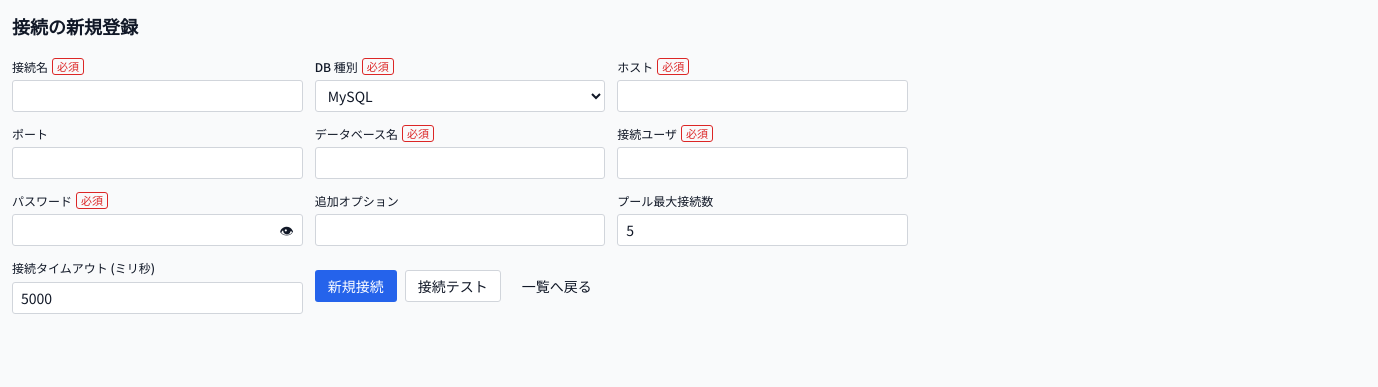
Test case: ConnectionEditPage › 認証失敗はAUTH_FAILEDの文言で表示する
This screenshot has width=1378, height=387.
Type "test-conn" into the field labelled "接続名 必須". click: (157, 96)
box: [12,80,303,112]
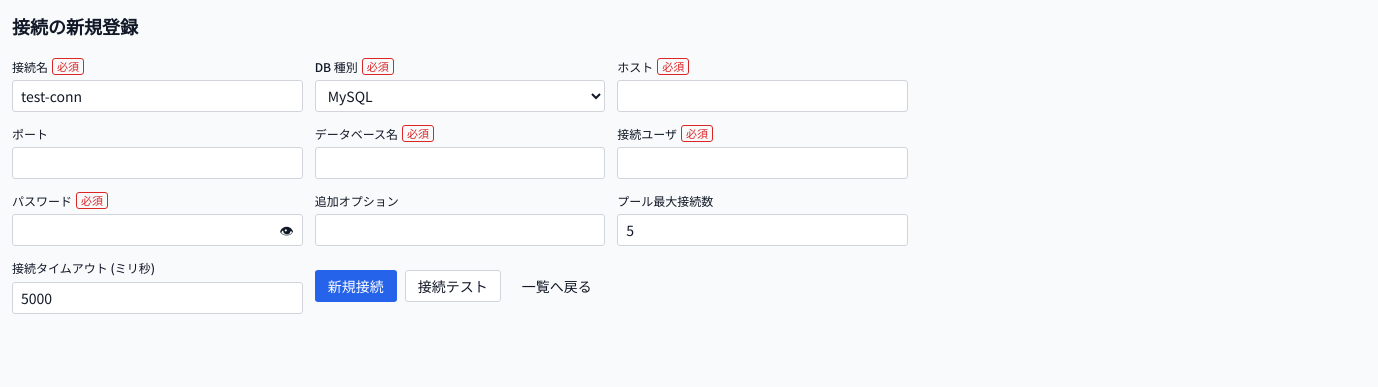
Type "localhost" into the field labelled "ホスト 必須". click: (763, 96)
box: [617,80,908,112]
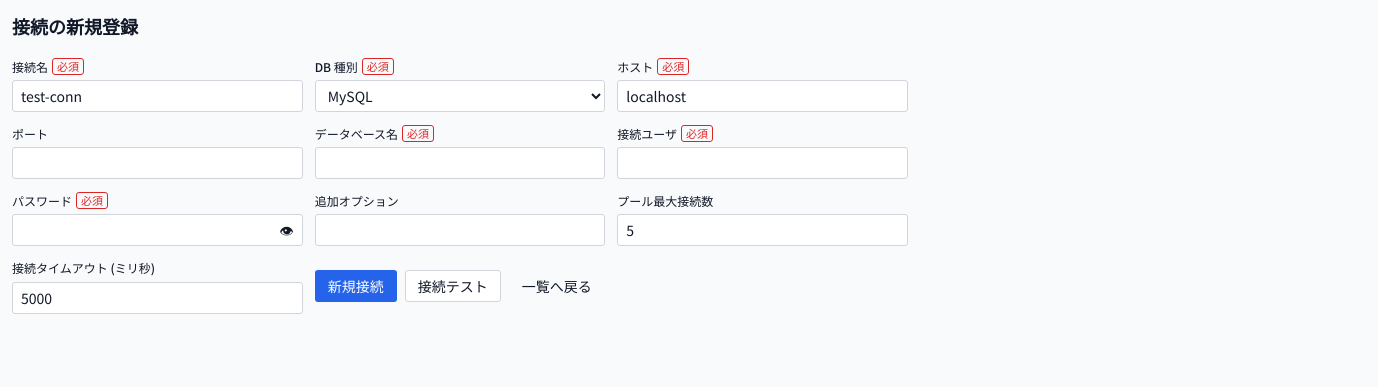
Type "testdb" into the field labelled "データベース名 必須". click: (460, 163)
box: [315,147,605,179]
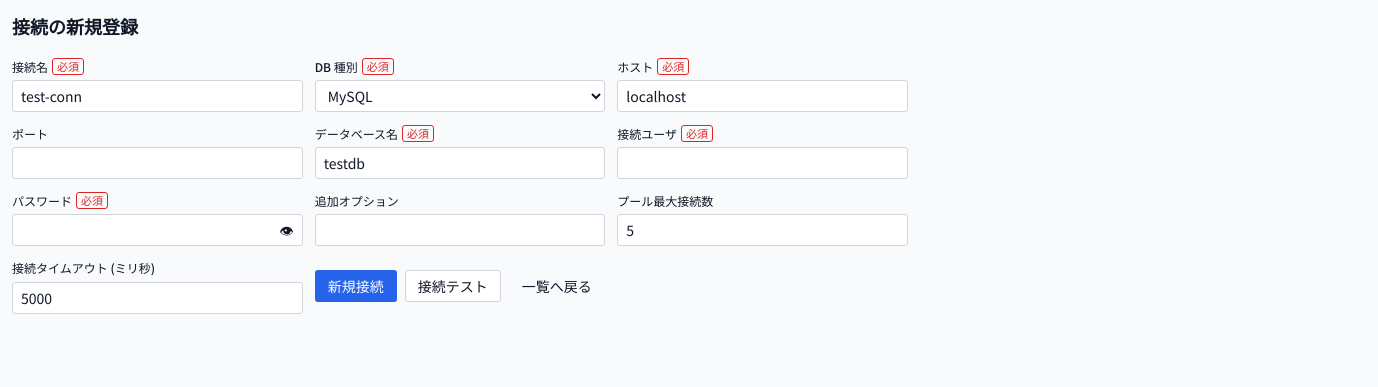
Type "app" into the field labelled "接続ユーザ 必須". click: (763, 163)
box: [617,147,908,179]
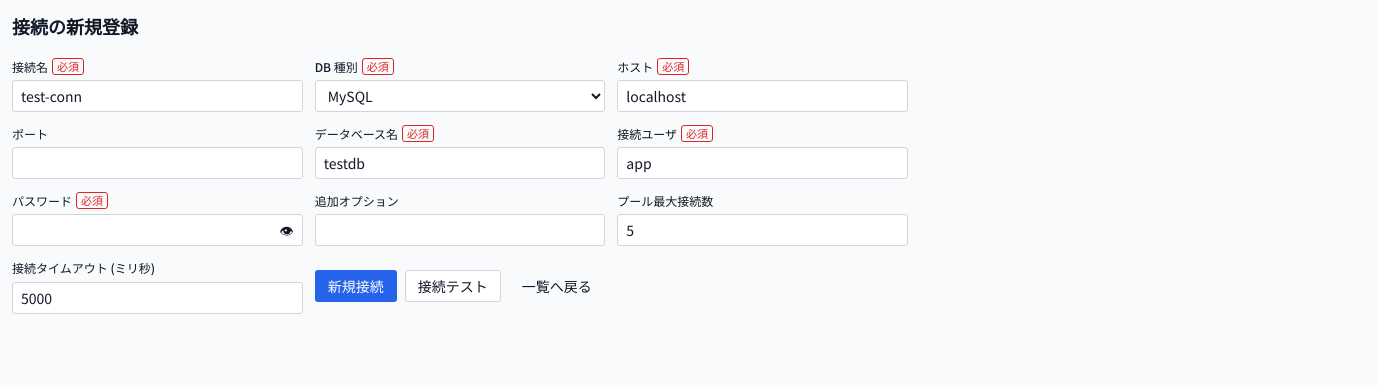
Type "secret" into the password field named "パスワード必須". click: (157, 230)
box: [12,214,303,246]
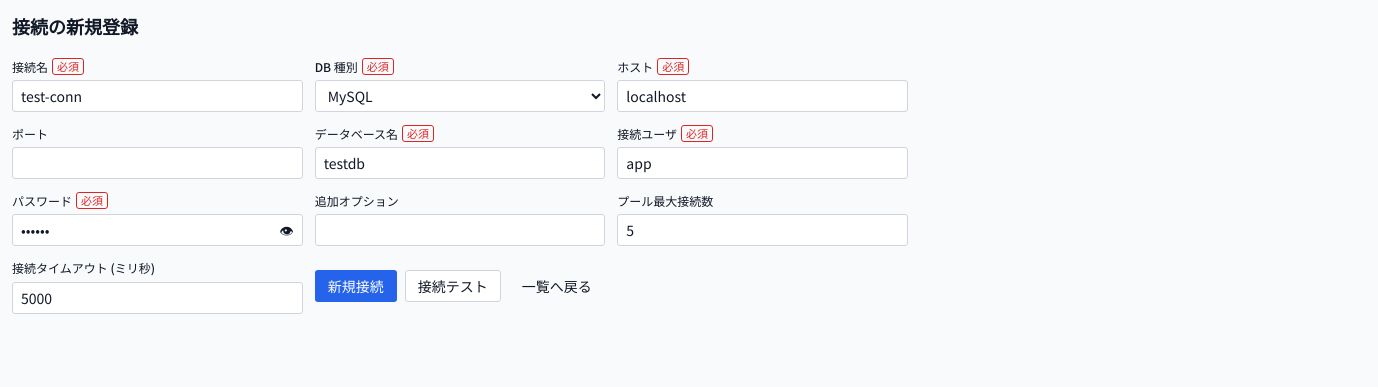
Click the button "接続テスト". click: (453, 286)
box: [405,270,501,302]
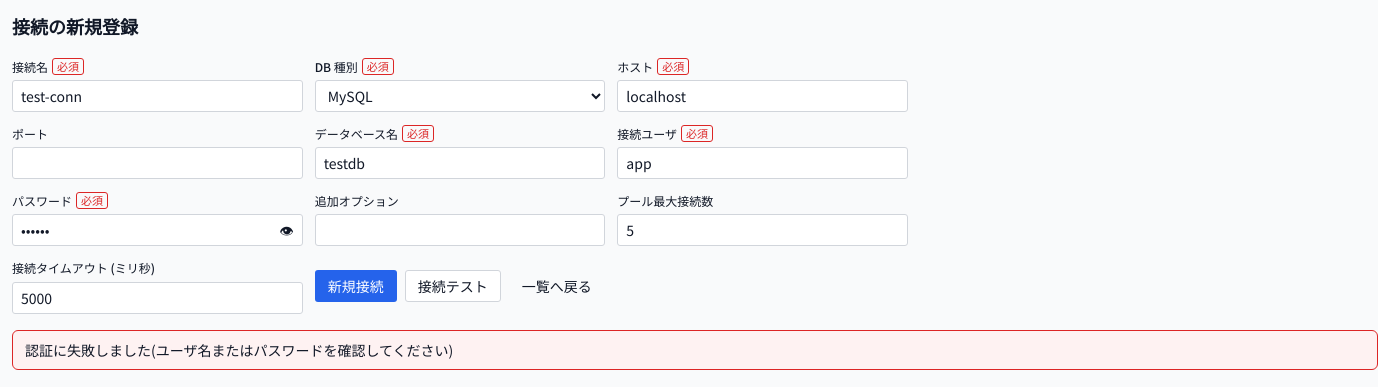
Now the text "認証に失敗しました(ユーザ名またはパスワードを確認してください)" is shown, box [12,330,1377,370]
